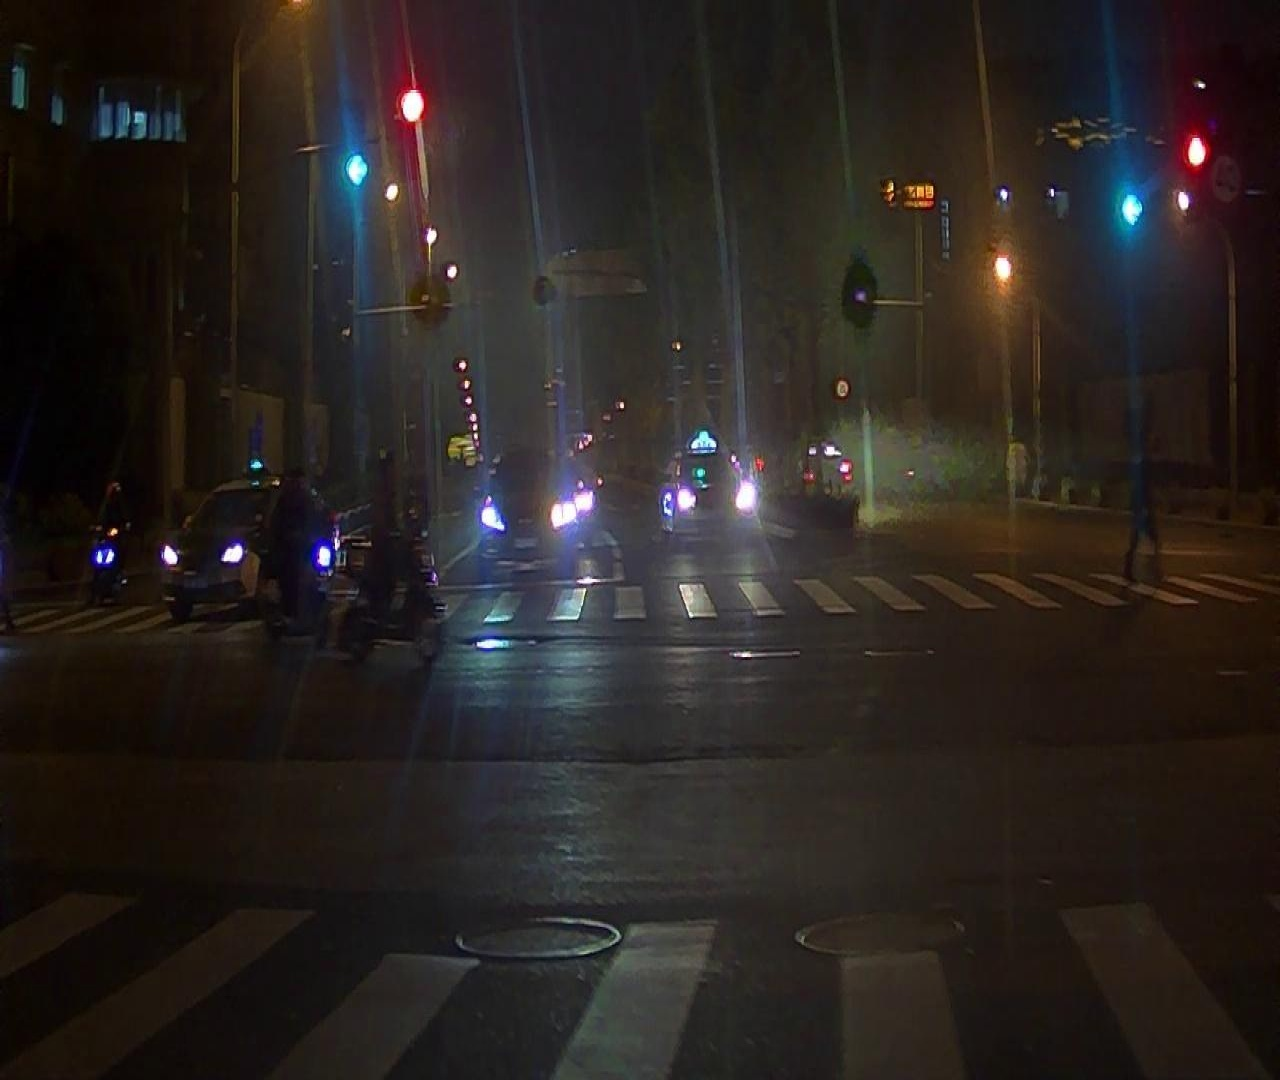green: (344, 153, 370, 186), (1121, 195, 1144, 223)
red: (401, 88, 425, 126), (1187, 139, 1209, 166)
yellow: (998, 259, 1011, 280)
